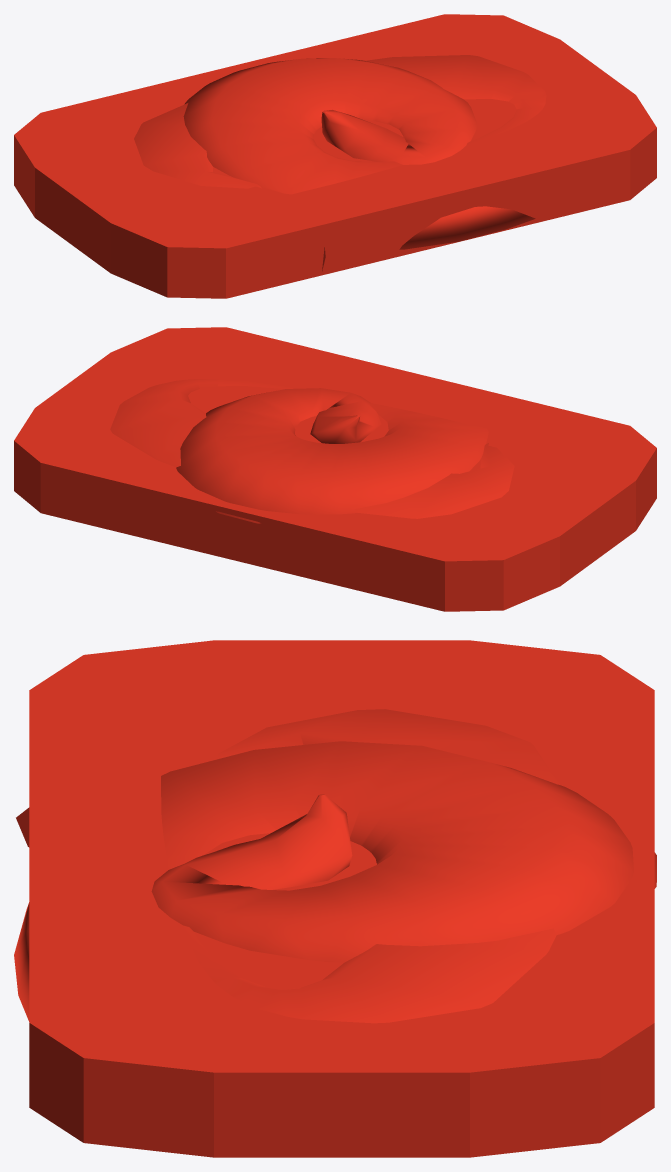
3 renders of one model, top to bottom at view 1: azimuth 30°, elevation 25°; view 2: azimuth 150°, elevation 25°; view 3: azimuth 270°, elevation 25°, orthographic. The views are drawn at different scales.
Visible parts, largest first — view 1: Cube.187, NurbsPath.002; view 2: Cube.187, NurbsPath.002; view 3: Cube.187, NurbsPath.002.
Boxes of the visible parts, x1,y1,x2,y2 form: Cube.187: (14,14,656,298); NurbsPath.002: (134,55,546,271); Cube.187: (14,327,656,611); NurbsPath.002: (110,379,514,523); Cube.187: (29,640,654,1157); NurbsPath.002: (14,709,656,1023).
Size of the model in its own units: 69.03 by 11.9 by 43.4.
